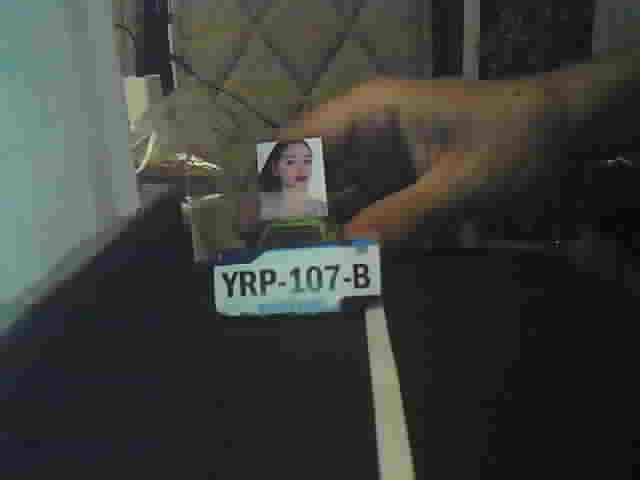PLACA: (209, 240, 382, 316)
ROSTRO: (257, 142, 328, 218)
